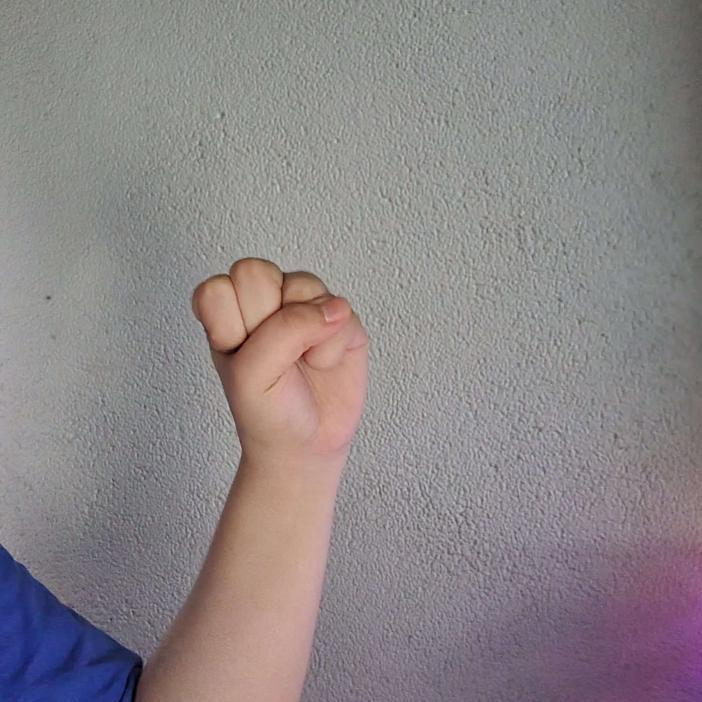s: (191, 256, 369, 469)
